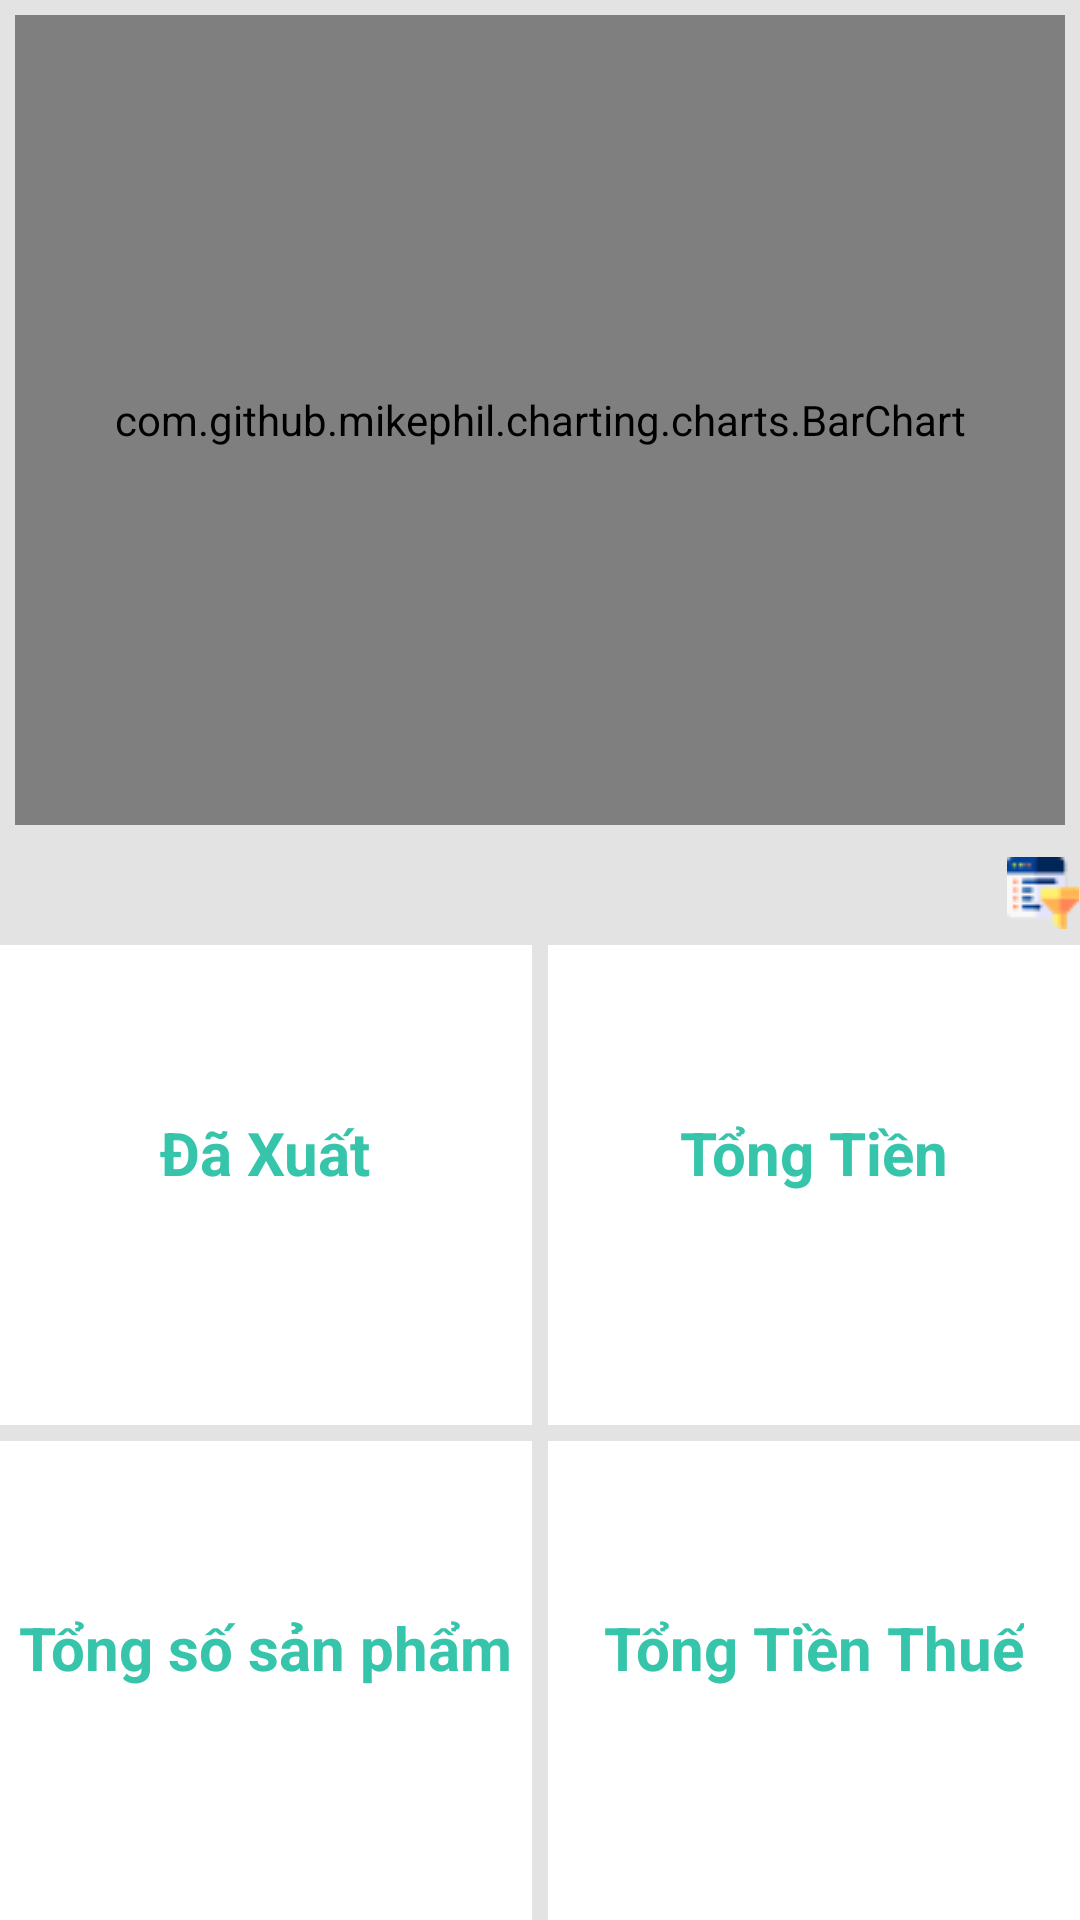

Where icons sit on this 1080×1920 app screen, as [x1=x1, y1=y1, x2=x2, y2=y2]:
filter: [x1=1007, y1=857, x2=1079, y2=929]
